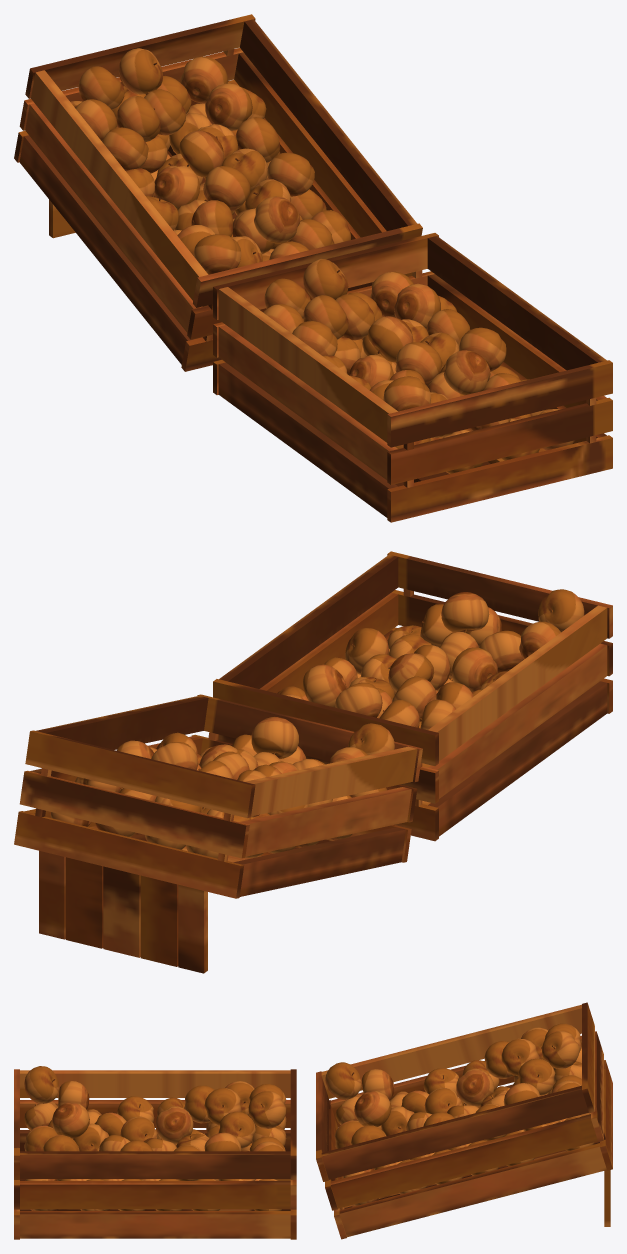
File: fruit crate_6.fbx
The picture shows the model from 3 angles, top to bottom: view 1: azimuth 30°, elevation 25°; view 2: azimuth 150°, elevation 25°; view 3: azimuth 270°, elevation 25°; orthographic projection. The views are drawn at different scales.
Visible parts, largest first — view 1: Cube.009, Cube.015, Plane.543, Plane.517, Plane.187, Plane.513, Plane.520, Plane.514, Plane.512, Plane.519, Plane.537, Plane.536 (+28 smaller); view 2: Cube.015, Cube.009, Cube.026, Plane.187, Plane.543, Plane.184, Plane.181, Plane.161, Plane.180, Plane.179, Plane.157, Plane.156 (+12 smaller); view 3: Cube.015, Cube.009, Plane.157, Plane.513, Plane.156, Plane.512, Plane.187, Plane.537, Plane.543, Plane.181, Plane.508, Plane.160 (+30 smaller).
Part boxes in pixels (<box>): Cube.009: <box>213,233,612,522</box>; Cube.015: <box>14,14,422,371</box>; Plane.543: <box>254,196,300,243</box>; Plane.517: <box>205,83,252,130</box>; Plane.187: <box>443,350,490,395</box>; Plane.513: <box>119,48,162,94</box>; Plane.520: <box>203,166,250,210</box>; Plane.514: <box>180,56,227,103</box>; Plane.512: <box>179,130,223,177</box>; Plane.519: <box>154,165,199,209</box>; Plane.537: <box>193,234,241,274</box>; Plane.536: <box>267,152,314,196</box>; Cube.015: <box>14,694,422,898</box>; Cube.009: <box>213,551,612,841</box>; Cube.026: <box>39,850,207,973</box>; Plane.187: <box>441,592,489,632</box>; Plane.543: <box>251,716,298,758</box>; Plane.184: <box>451,647,497,691</box>; Plane.181: <box>538,589,584,632</box>; Plane.161: <box>303,664,346,707</box>; Plane.180: <box>345,628,388,674</box>; Plane.179: <box>479,630,523,672</box>; Plane.157: <box>335,682,382,717</box>; Plane.156: <box>388,653,434,692</box>; Cube.015: <box>316,1002,612,1239</box>; Cube.009: <box>14,1069,296,1239</box>; Plane.157: <box>248,1091,286,1128</box>; Plane.513: <box>542,1031,579,1069</box>; Plane.156: <box>155,1106,193,1143</box>; Plane.512: <box>456,1068,494,1106</box>; Plane.187: <box>52,1102,89,1138</box>; Plane.537: <box>325,1062,361,1099</box>; Plane.543: <box>354,1091,391,1126</box>; Plane.181: <box>24,1066,58,1103</box>; Plane.508: <box>518,1058,555,1095</box>; Plane.160: <box>204,1088,241,1125</box>.
Bounding box in the file's own units: 26.86 × 22.86 × 78.99.
